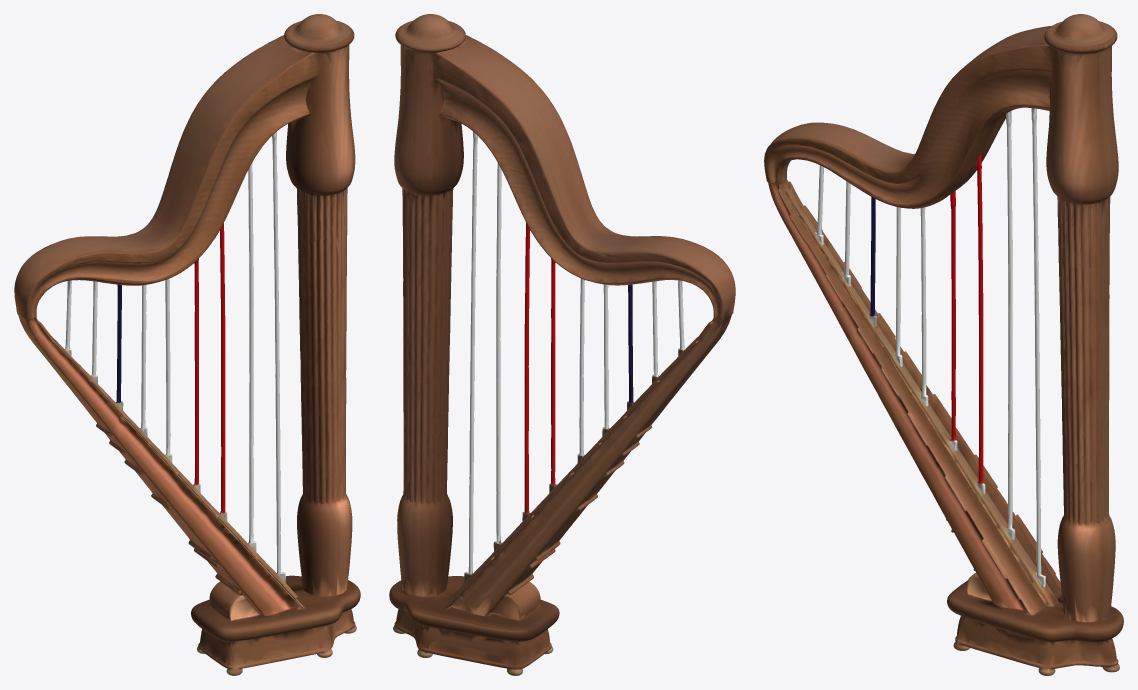
The model's file is harp.glb.
3 views of the same model, side by side, from view 1: azimuth 30°, elevation 25°; view 2: azimuth 150°, elevation 25°; view 3: azimuth 330°, elevation 25° (orthographic). The views are drawn at different scales.
Parts seen in each view (by area): view 1: mesh_node; view 2: mesh_node; view 3: mesh_node.
Part boxes in pixels (x1,y1,x2,y2): mesh_node: (14,14,360,675); mesh_node: (389,14,735,675); mesh_node: (764,14,1123,675).
Bounding box in the file's own units: 1.08 × 1.9 × 0.2823.
Materials: 1 (1 with a texture image).
